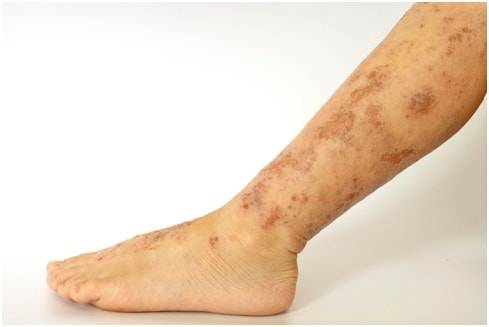Eczema: (295, 42, 425, 241)
